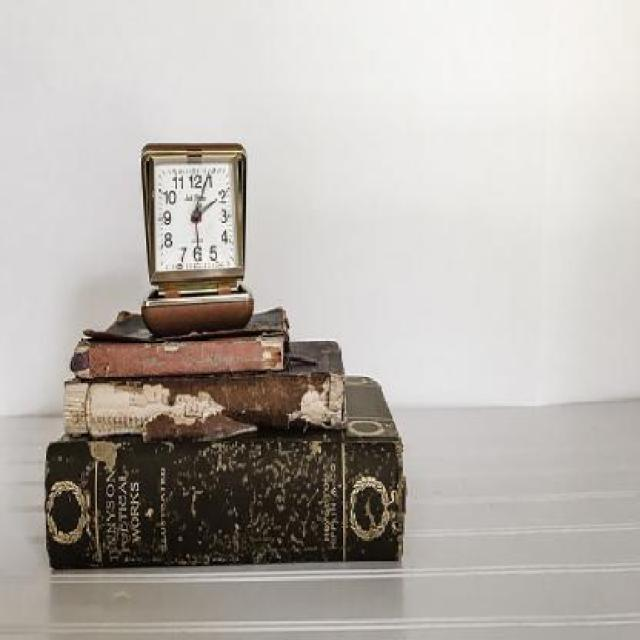clock: (156, 159, 245, 272)
